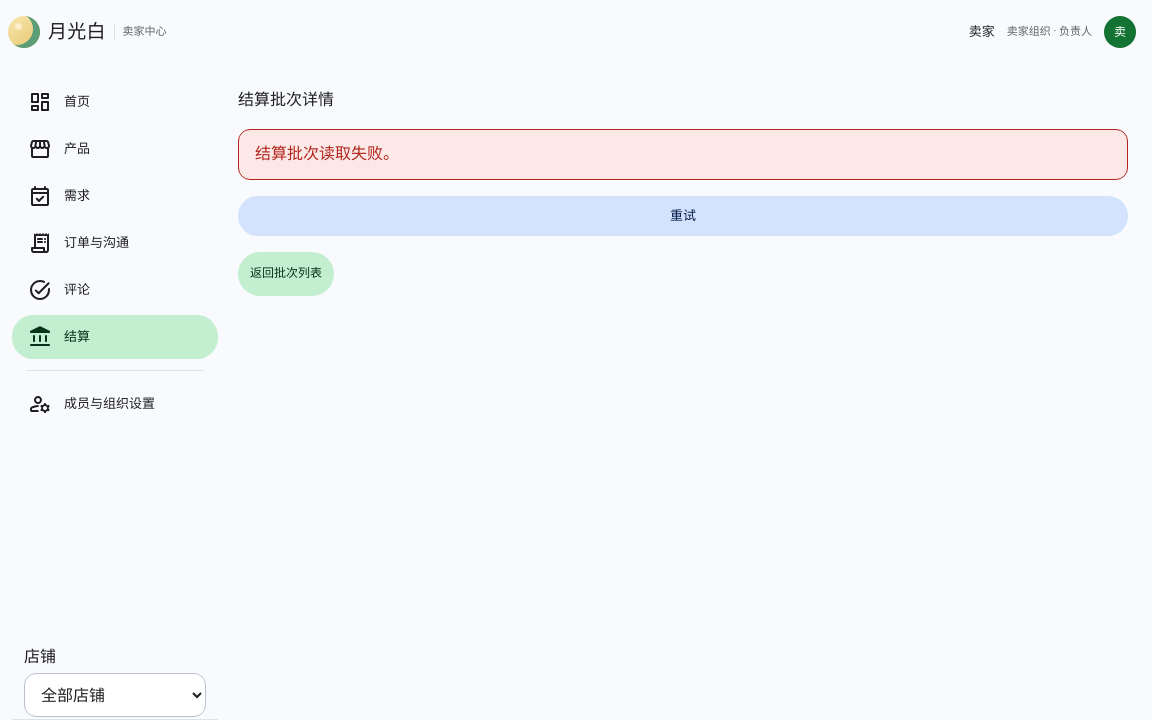
Scenario: seller settlement batch detail (7.5R-2) › recovers from a failed detail read through the retry control
expect the text "结算批次读取失败。" is shown: met, box [255, 144, 399, 163]
Click the button "重试" at (683, 216), box [238, 196, 1128, 236]
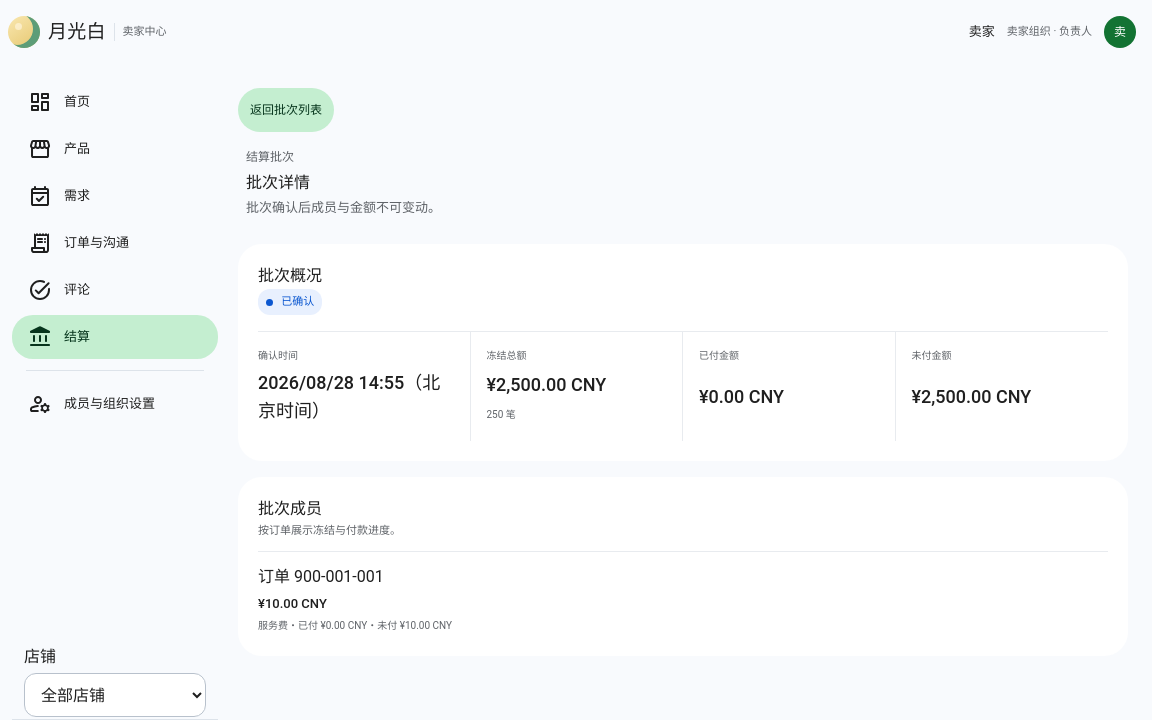
expect the text "订单 900-001-001" is shown: met, box [258, 567, 384, 586]
